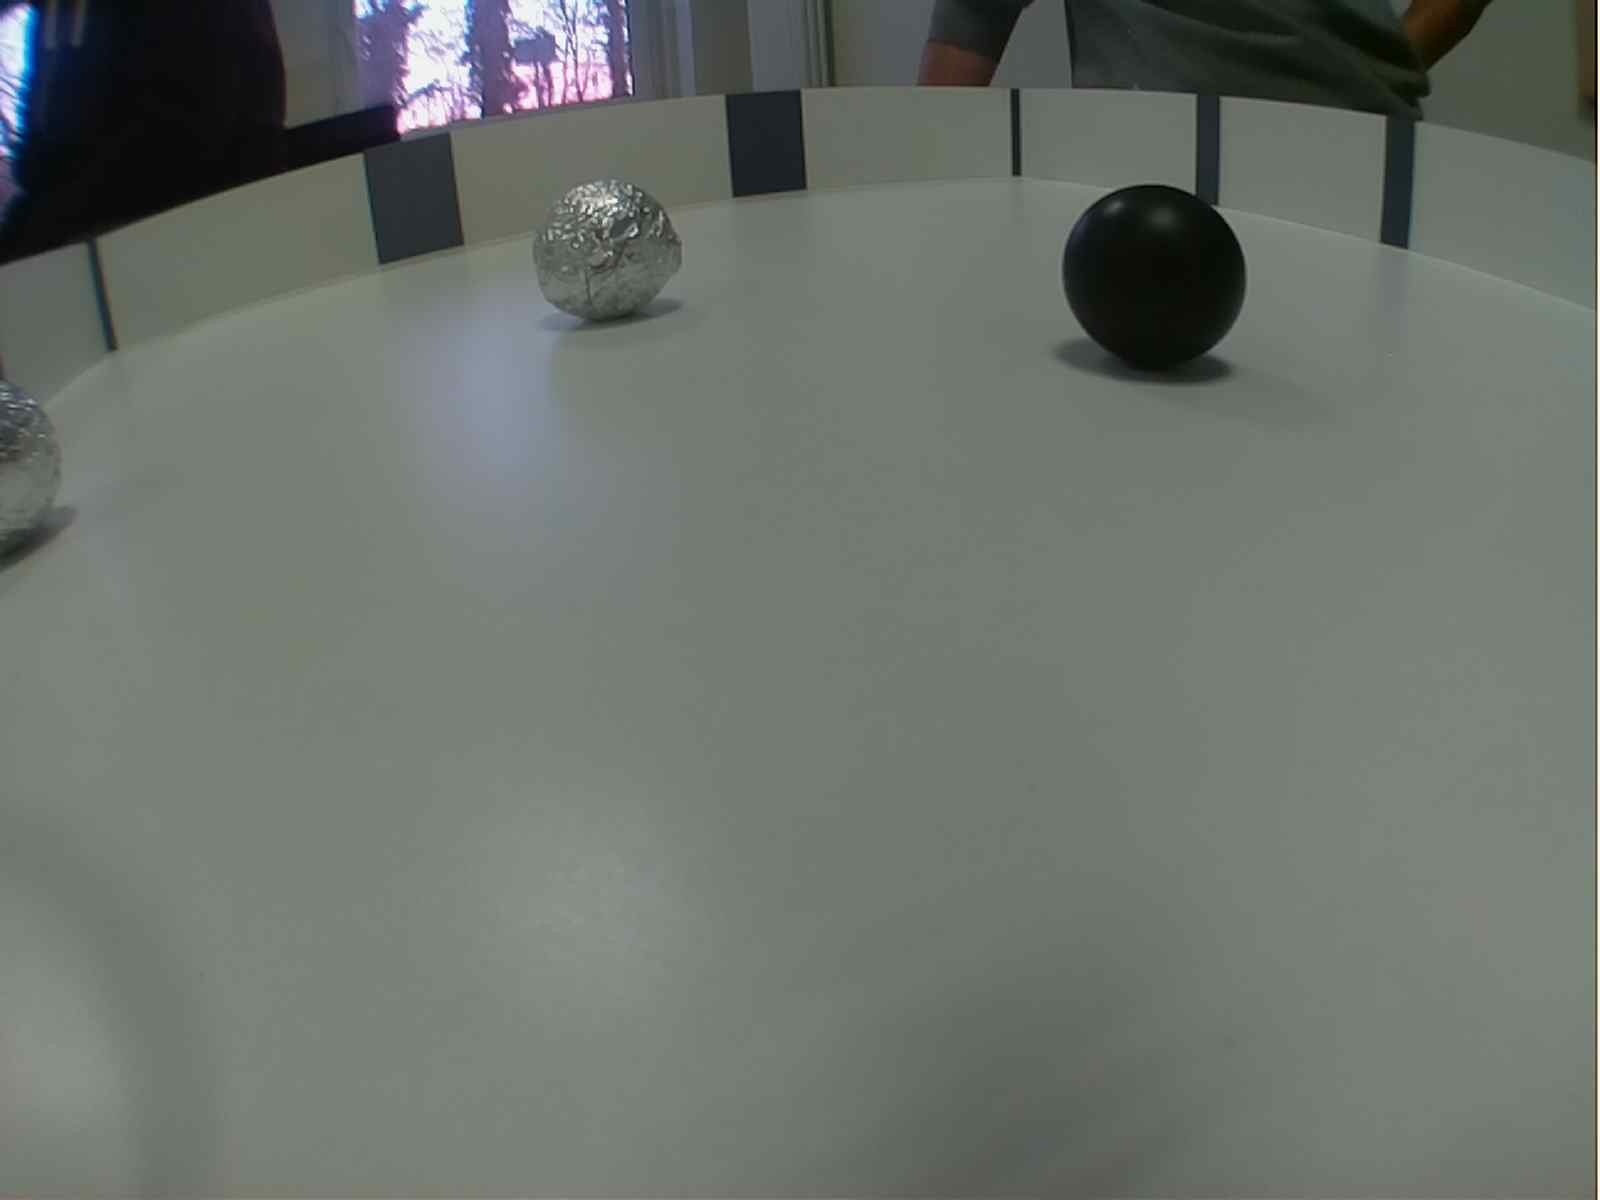bianca: (534, 175, 685, 325), (1, 379, 66, 576)
nera: (1053, 182, 1249, 381)
